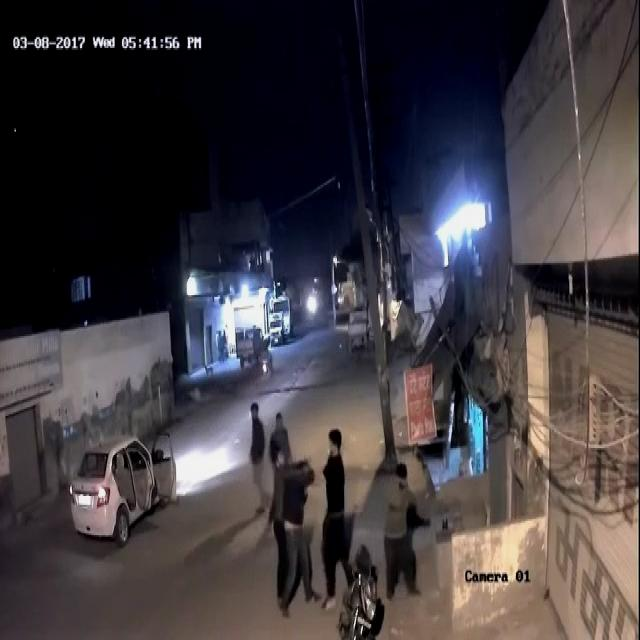fight: (270, 440, 315, 616)
